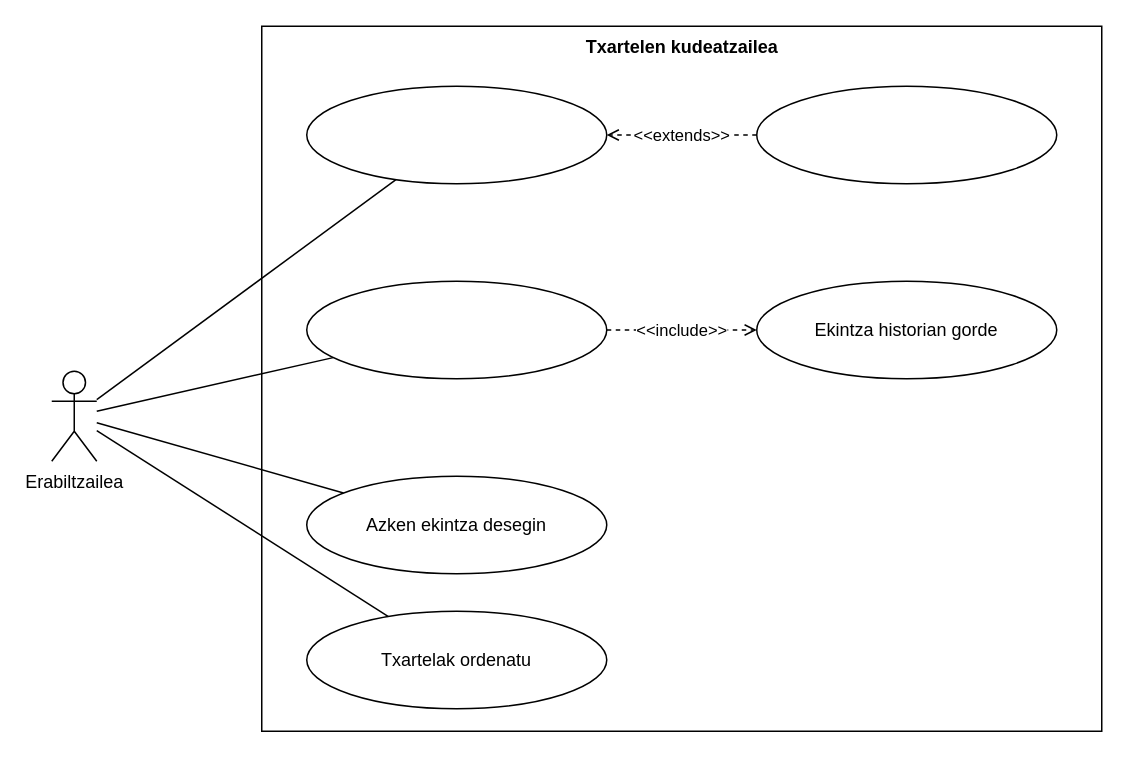
The diagram is 1128 pixels wide and 758 high, and some of its shapes have lost their labels. Each missing label, with the centre of its shape:
IDa bitarrean ikusi: pixel 906 134
Txartela atenditu: pixel 456 329
Txartela erregistratu: pixel 456 134
